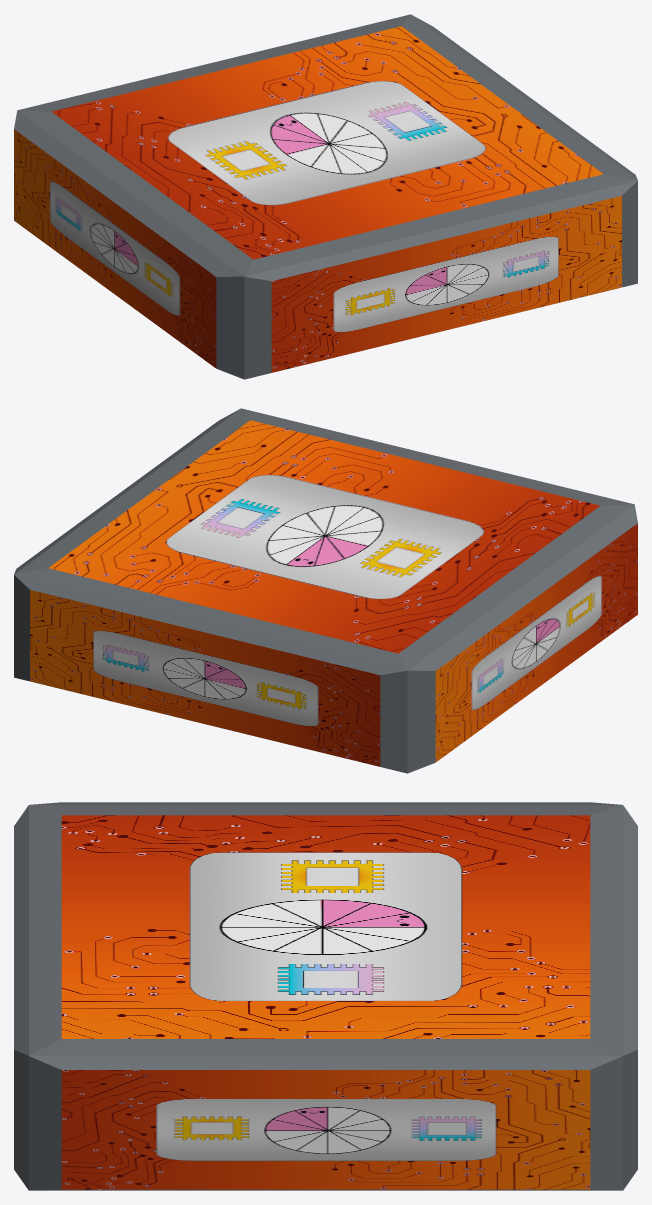
3 renders of one model, top to bottom at view 1: azimuth 30°, elevation 25°; view 2: azimuth 150°, elevation 25°; view 3: azimuth 270°, elevation 25°, orthographic. The views are drawn at different scales.
Visible parts, largest first — view 1: 3/12; view 2: 3/12; view 3: 3/12.
Part boxes in pixels (x1=…): 3/12: x1=14, y1=14, x2=637, y2=379; 3/12: x1=14, y1=408, x2=637, y2=773; 3/12: x1=14, y1=802, x2=637, y2=1190.
Bounding box in the file's own units: 213 × 52.5 × 210.
Materials: 3 (2 with a texture image).
